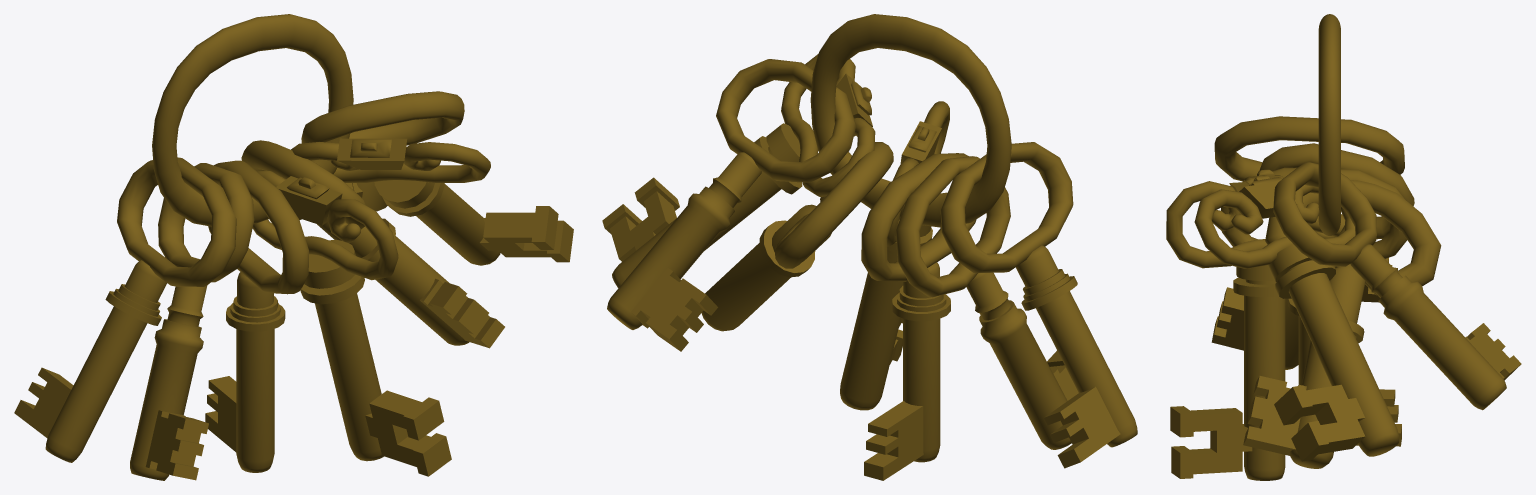
The model's file is RingOfKeys.fbx.
3 views of the same model, side by side, from view 1: azimuth 30°, elevation 25°; view 2: azimuth 150°, elevation 25°; view 3: azimuth 270°, elevation 25° (orthographic). The views are drawn at different scales.
Parts seen in each view (by area): view 1: RingOfKeys; view 2: RingOfKeys; view 3: RingOfKeys.
Part boxes in pixels (x1,y1,x2,y2): RingOfKeys: (14,14,573,480); RingOfKeys: (602,14,1137,480); RingOfKeys: (1166,14,1521,480).
Bounding box in the file's own units: 125 × 99.81 × 75.87.
